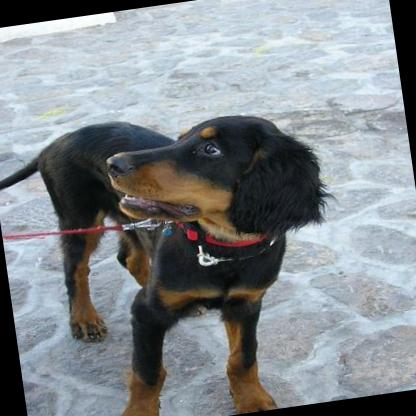Gordon_setter: (0, 88, 356, 416)
